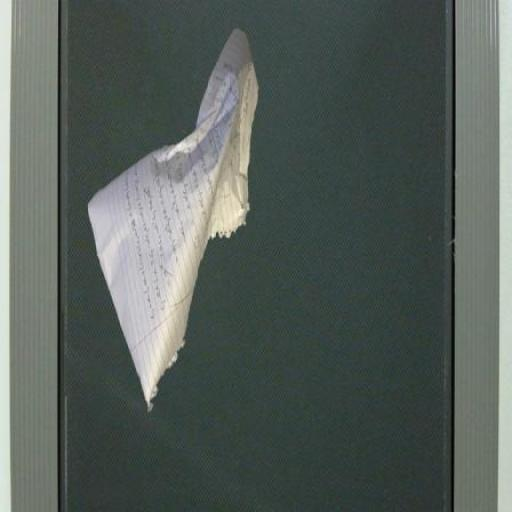paper: (86, 4, 284, 438)
